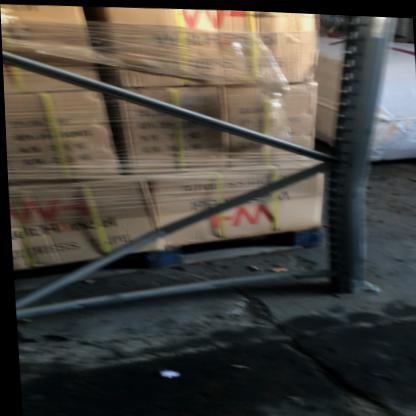vertical_damage: (320, 87, 390, 239)
